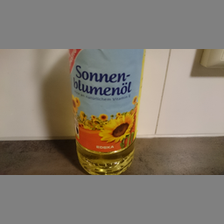oil: (69, 49, 147, 176)
